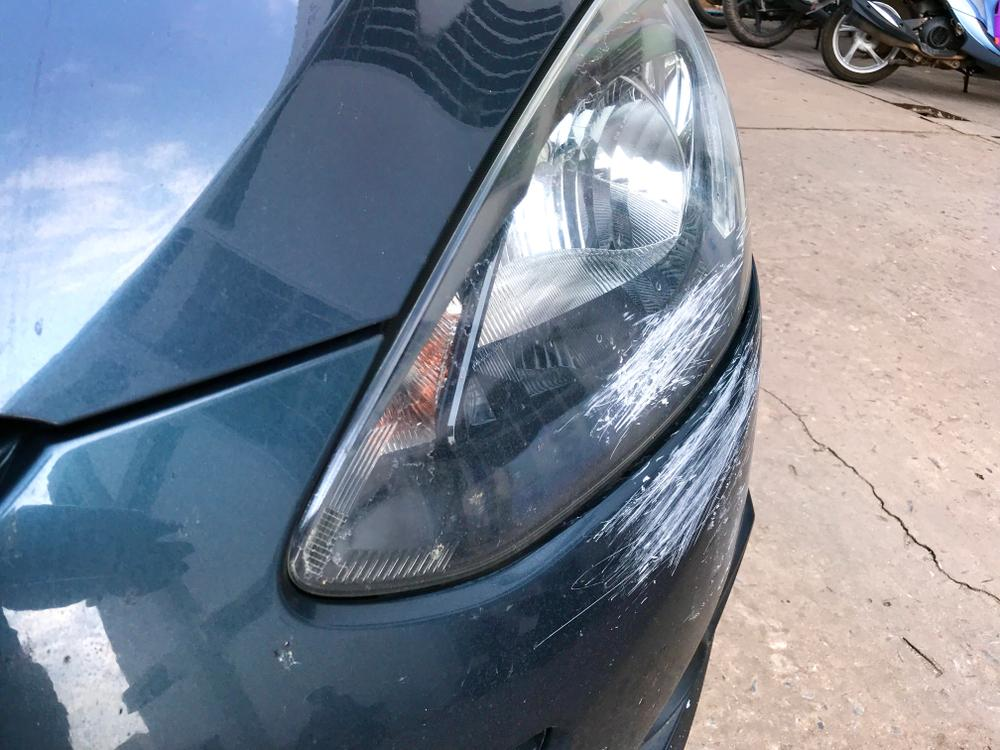scratch: (537, 324, 761, 650), (589, 223, 747, 448)
